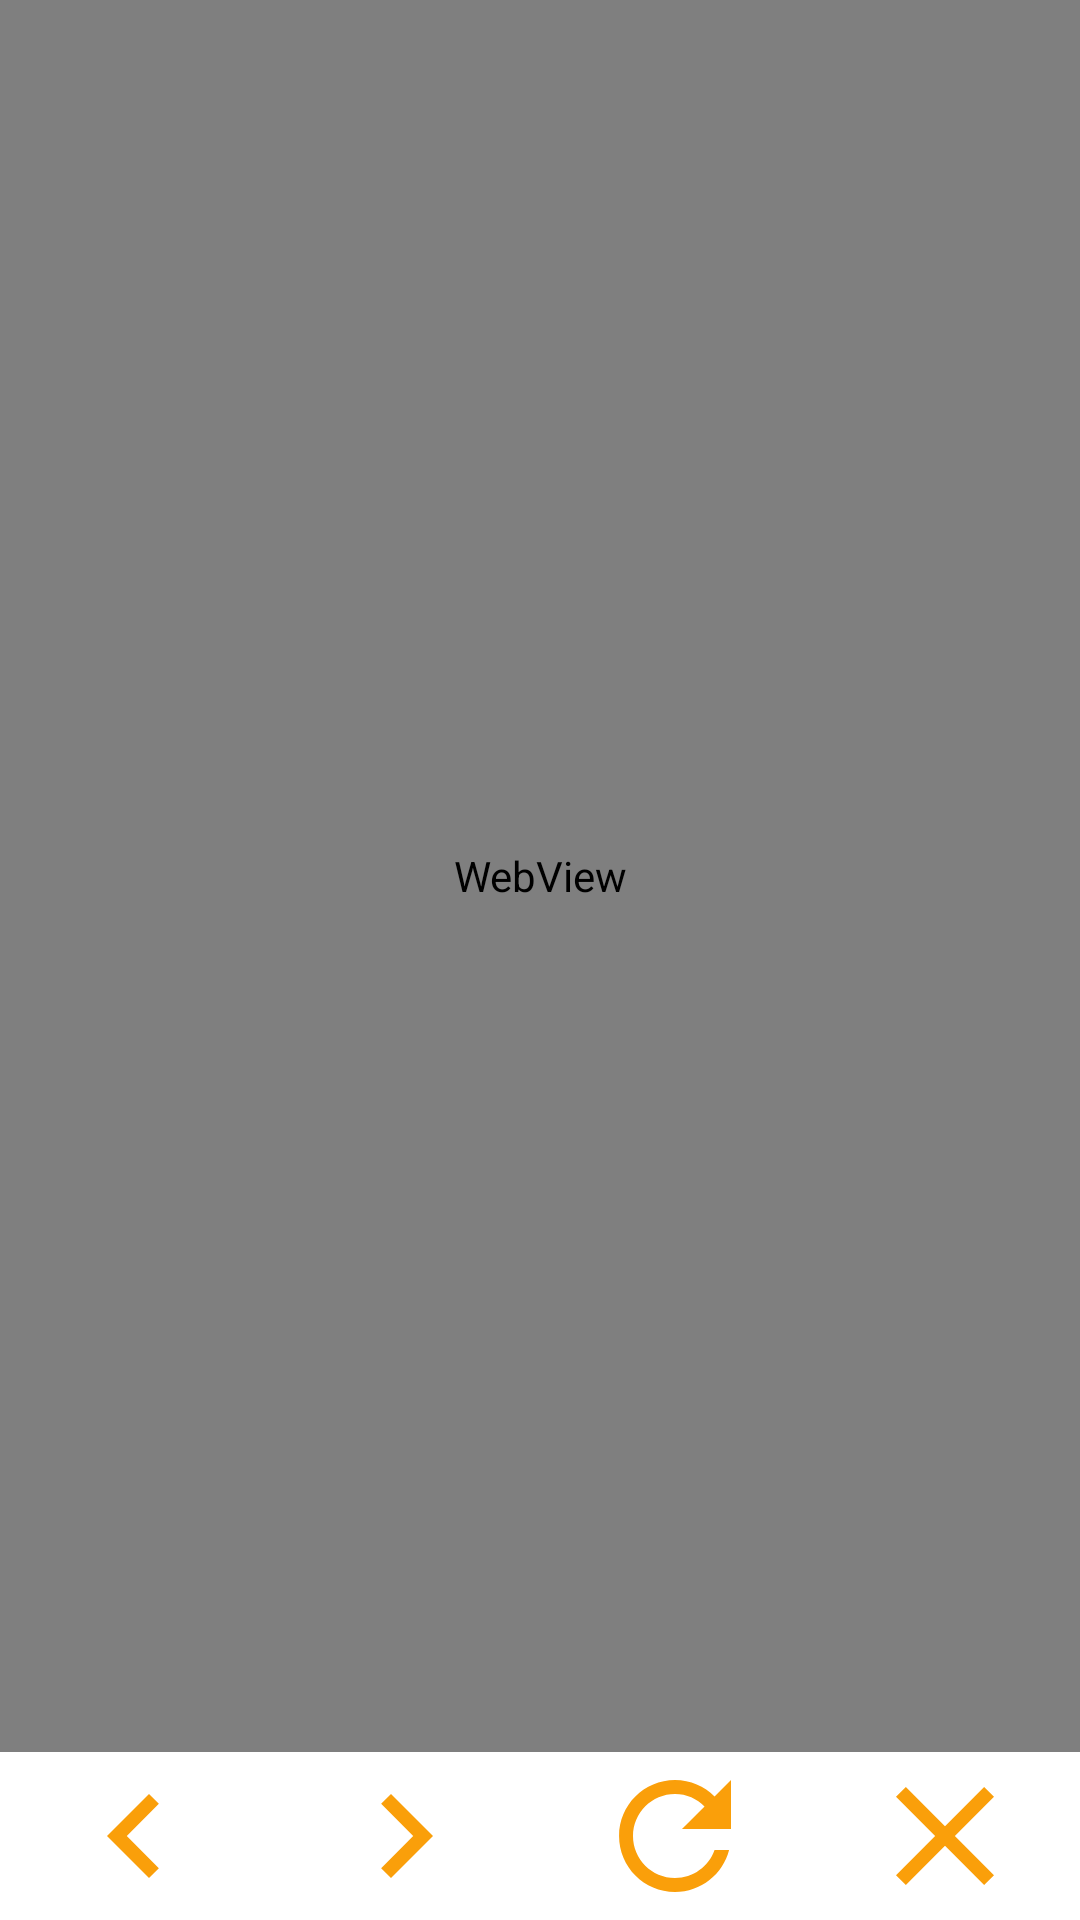

Where icons sit on this 1080 × 1920 app screen, as (x1, y1, x2, y2):
chevron left: (107, 1794, 159, 1878)
chevron right: (381, 1794, 433, 1878)
close: (896, 1787, 994, 1885)
refresh: (619, 1780, 731, 1892)
